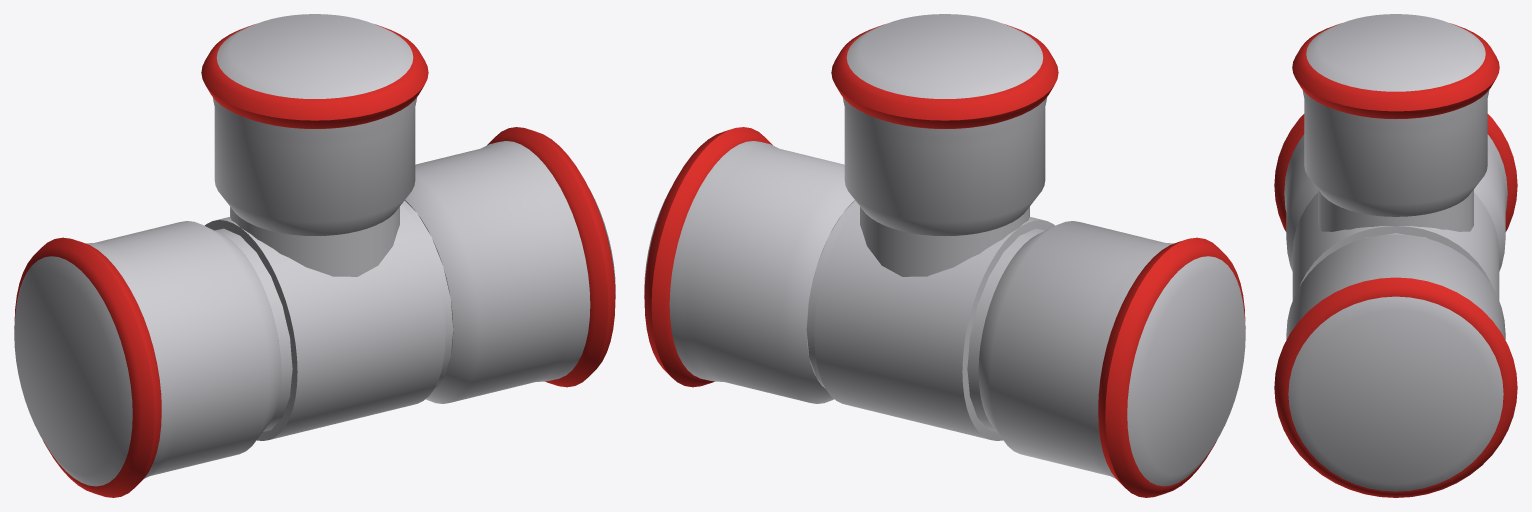
The model's file is fitting_tee_35x28_r.glb.
The picture shows the model from 3 angles, left to right: view 1: azimuth 30°, elevation 25°; view 2: azimuth 150°, elevation 25°; view 3: azimuth 270°, elevation 25°; orthographic projection. The views are drawn at different scales.
Parts seen in each view (by area): view 1: раструб.001, раструб, раструб.002, узел, кольцо пресс.001, кольцо пресс.002, кольцо пресс, корпус.001, корпус; view 2: раструб.001, раструб, раструб.002, узел, кольцо пресс.001, кольцо пресс.002, кольцо пресс, корпус.001, корпус; view 3: раструб, раструб.002, кольцо пресс, кольцо пресс.002, узел, раструб.001, корпус.001, кольцо пресс.001.
Part boxes in pixels (x1,y1,x2,y2): раструб.001: (14, 221, 281, 486); раструб: (404, 141, 615, 403); раструб.002: (212, 14, 417, 235); узел: (204, 204, 445, 440); кольцо пресс.001: (14, 237, 161, 497); кольцо пресс.002: (201, 24, 428, 128); кольцо пресс: (487, 127, 615, 387); корпус.001: (230, 206, 399, 276); корпус: (214, 200, 453, 431); раструб.001: (978, 221, 1245, 486); раструб: (644, 141, 855, 403); раструб.002: (842, 14, 1047, 235); узел: (814, 204, 1055, 440); кольцо пресс.001: (1098, 237, 1245, 497); кольцо пресс.002: (831, 24, 1058, 128); кольцо пресс: (644, 127, 772, 387); корпус.001: (860, 206, 1029, 276); корпус: (806, 200, 1045, 431); раструб: (1286, 234, 1505, 491); раструб.002: (1302, 14, 1489, 216); кольцо пресс: (1274, 277, 1517, 497); кольцо пресс.002: (1292, 23, 1499, 118); узел: (1292, 193, 1499, 300); раструб.001: (1284, 134, 1507, 271); корпус.001: (1318, 189, 1473, 231); кольцо пресс.001: (1274, 114, 1517, 231).
Bounding box in the file's own units: 0.104 × 0.0766 × 0.0483.
